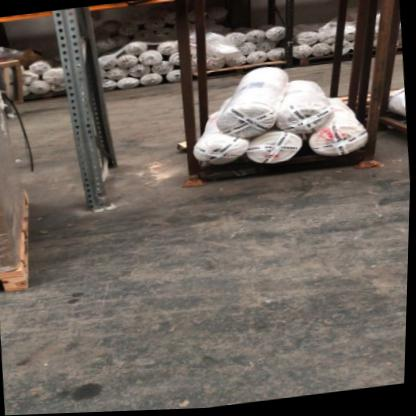vertical_damage: (79, 182, 120, 219)
